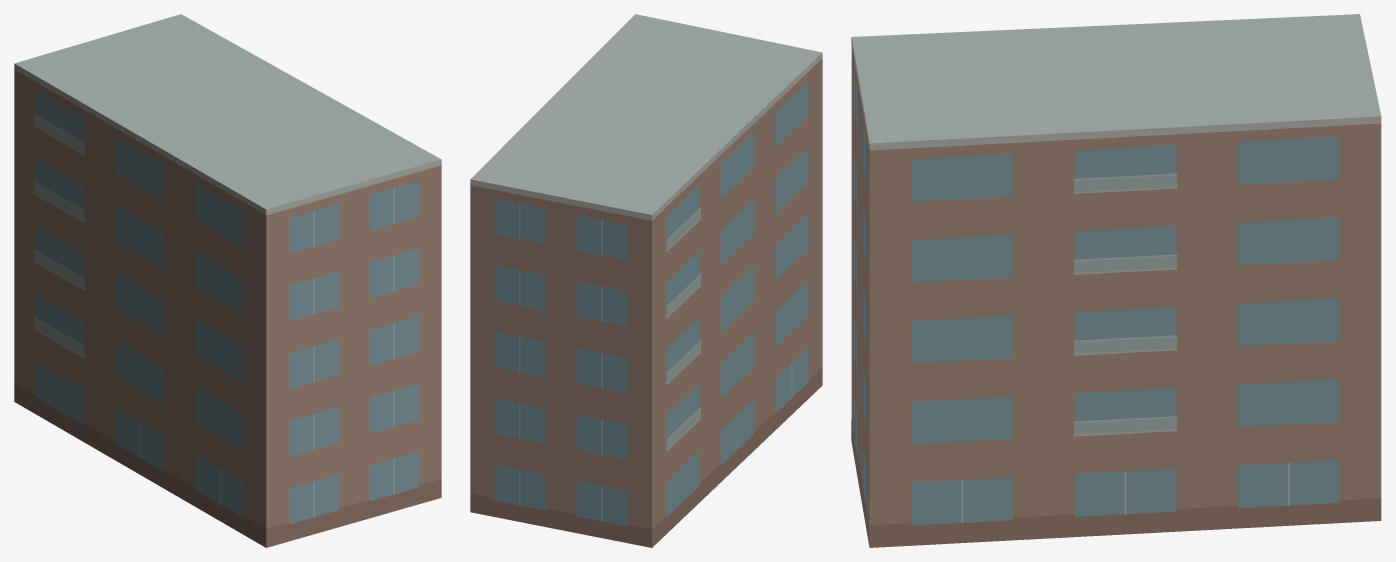
Rendered from survey-upis-32641019.glb.
The picture shows the model from 3 angles, left to right: view 1: azimuth 30°, elevation 25°; view 2: azimuth 150°, elevation 25°; view 3: azimuth 270°, elevation 25°; orthographic projection. The views are drawn at different scales.
Visible parts, largest first — view 1: survey-upis-32641019.tmp; view 2: survey-upis-32641019.tmp; view 3: survey-upis-32641019.tmp.
Part boxes in pixels (x1=…): survey-upis-32641019.tmp: x1=14, y1=14, x2=441, y2=547; survey-upis-32641019.tmp: x1=470, y1=14, x2=822, y2=547; survey-upis-32641019.tmp: x1=851, y1=14, x2=1381, y2=547.
Bounding box in the file's own units: 9.73 × 14.15 × 16.82.
